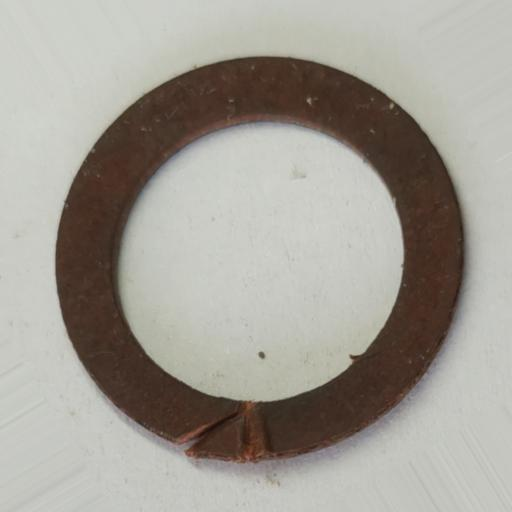defect: (180, 399, 267, 461)
